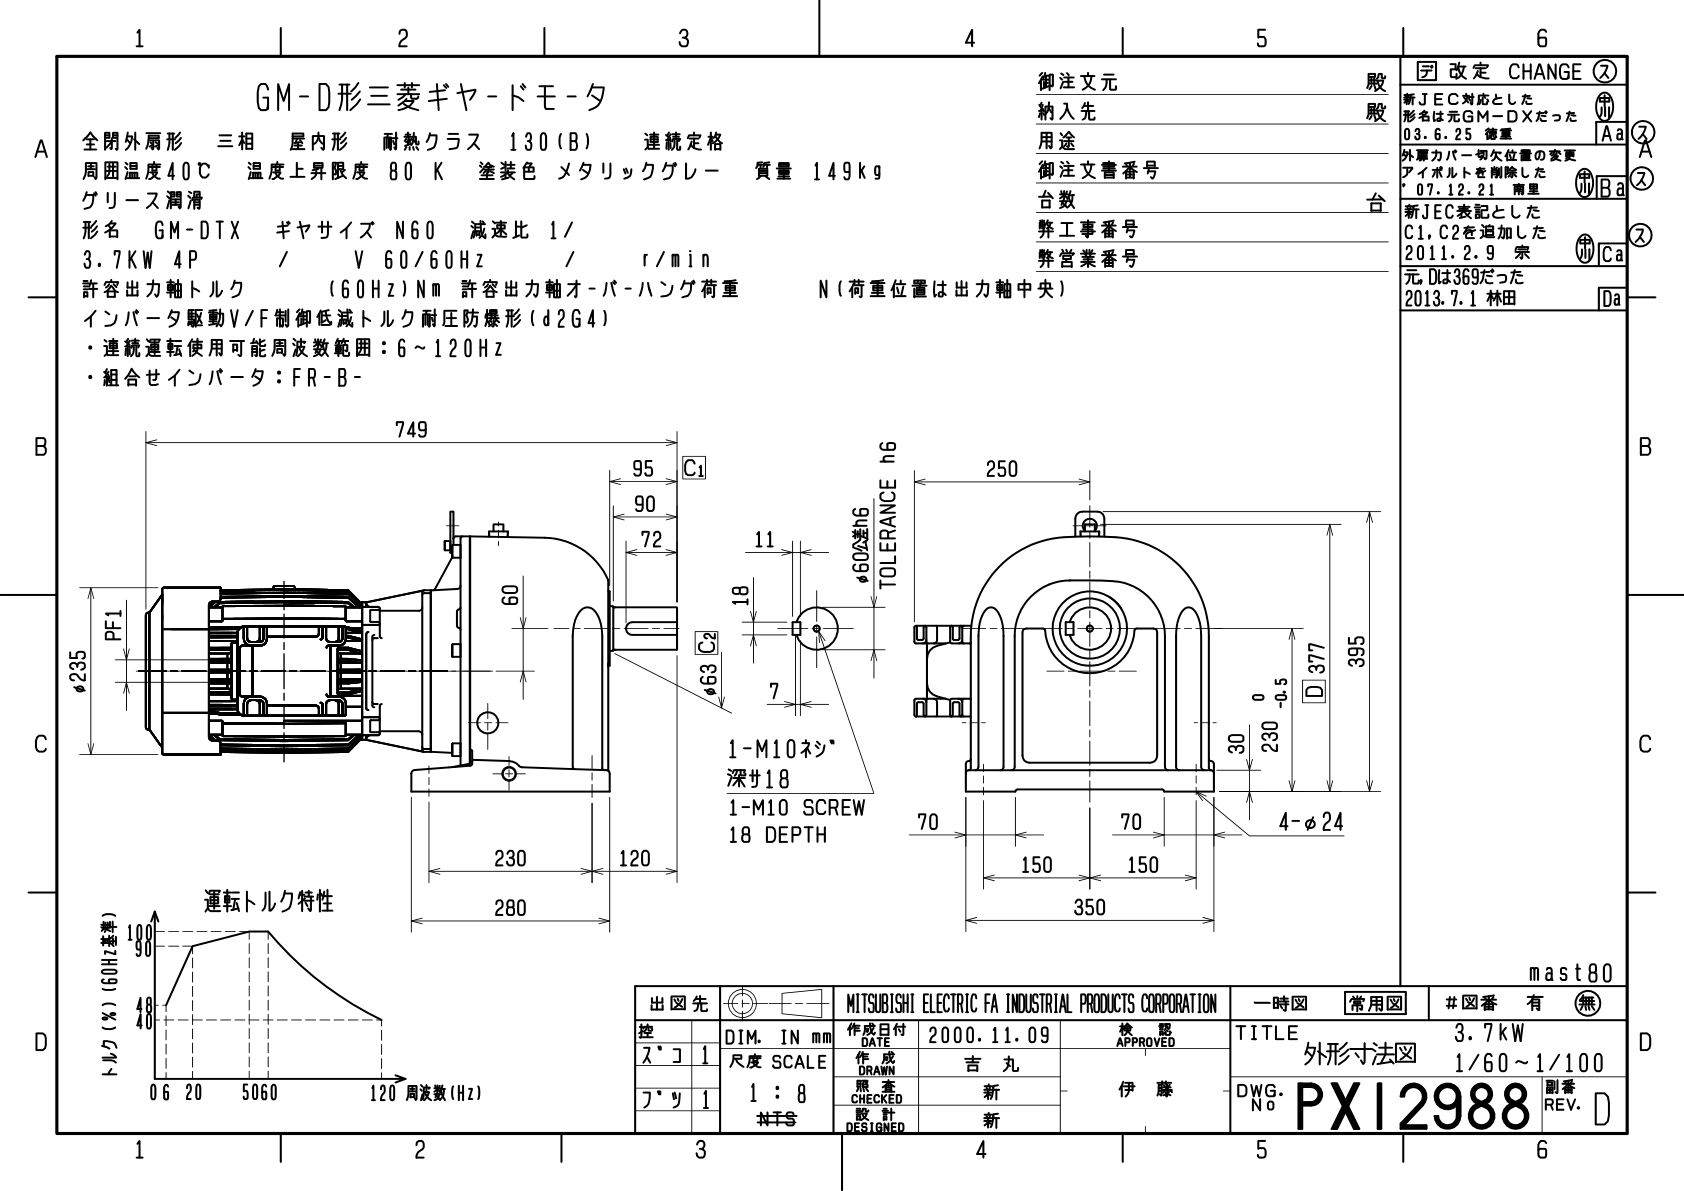GM_D_制御屋内_三相_脚: (13, 12, 1684, 1179)
